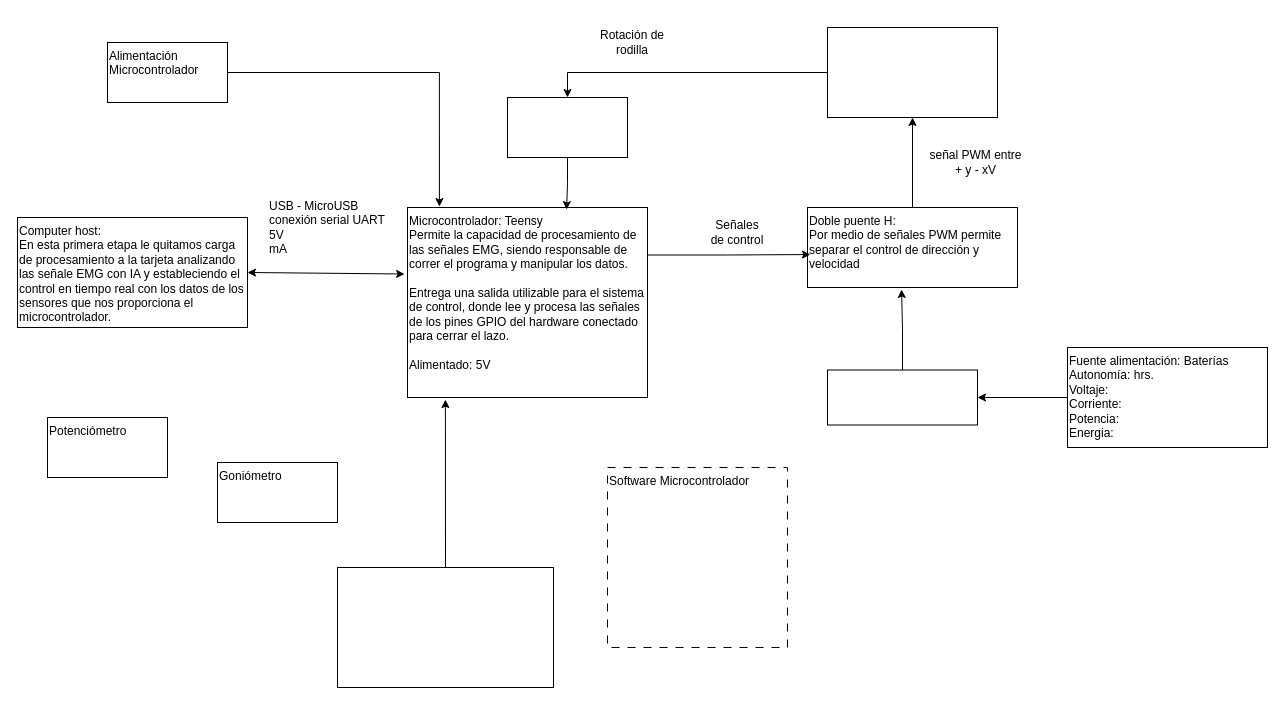
The diagram is 1285 pixels wide and 705 high, and some of its shapes have lost their labels. Each missing label, with the box of its shape:
Acondicionamiento de alimentación:: (826, 369, 978, 425)
Encoder de ángulo (potenciómetro): Resolución:: (506, 96, 628, 158)
Motor DC: RPM: Voltaje: Corriente: Torque: Recorrido de actuador lineal:: (826, 26, 998, 118)
OpenBCL: Placa de biodetección de 8 canales Alimentación 3-6 V: (336, 566, 554, 688)
